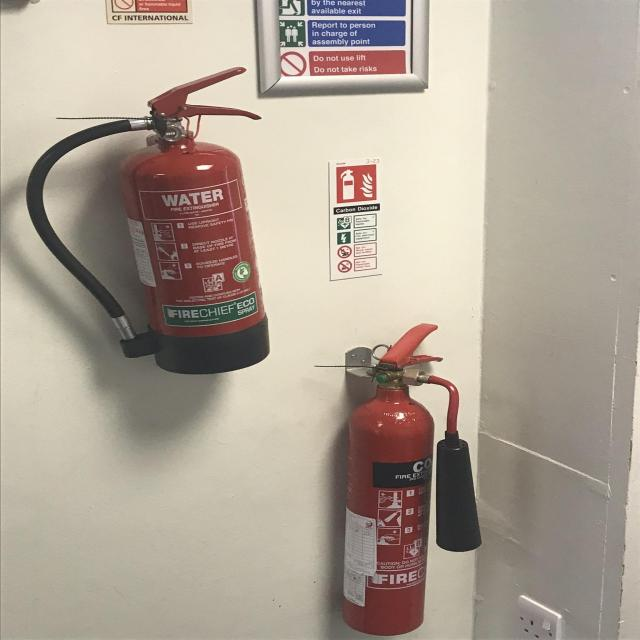fire_extinguisher: (19, 64, 279, 378), (330, 322, 484, 638)
